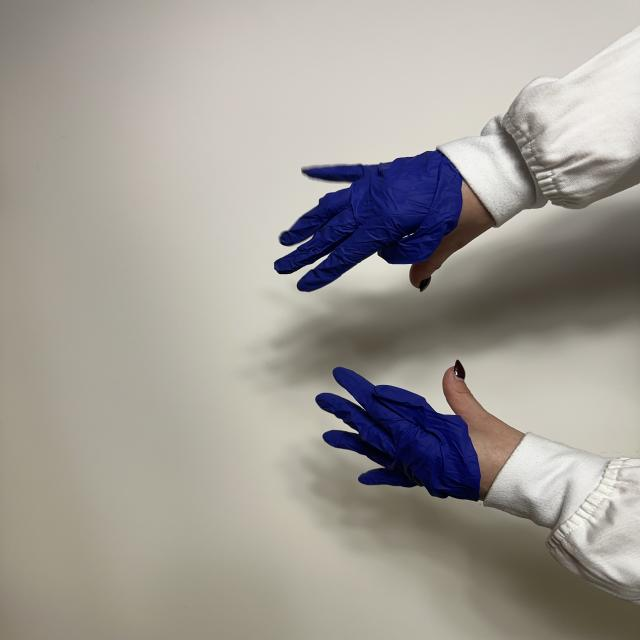glove_partial: (274, 151, 492, 292), (317, 361, 524, 501)
